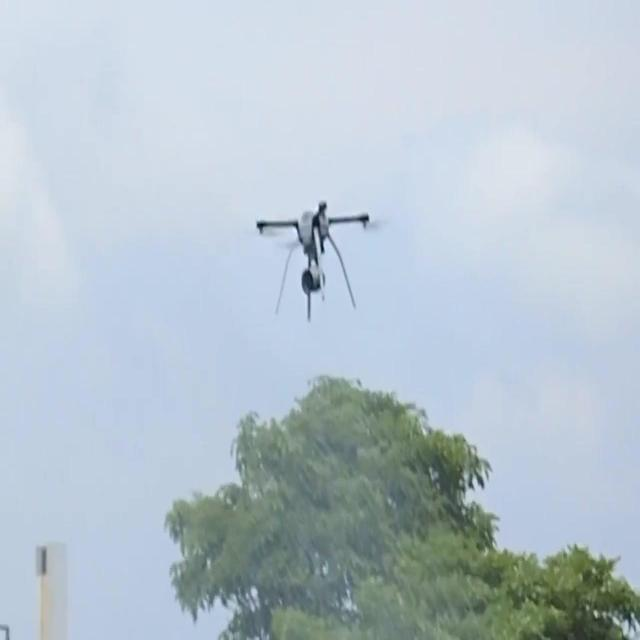drone: (255, 197, 372, 326)
